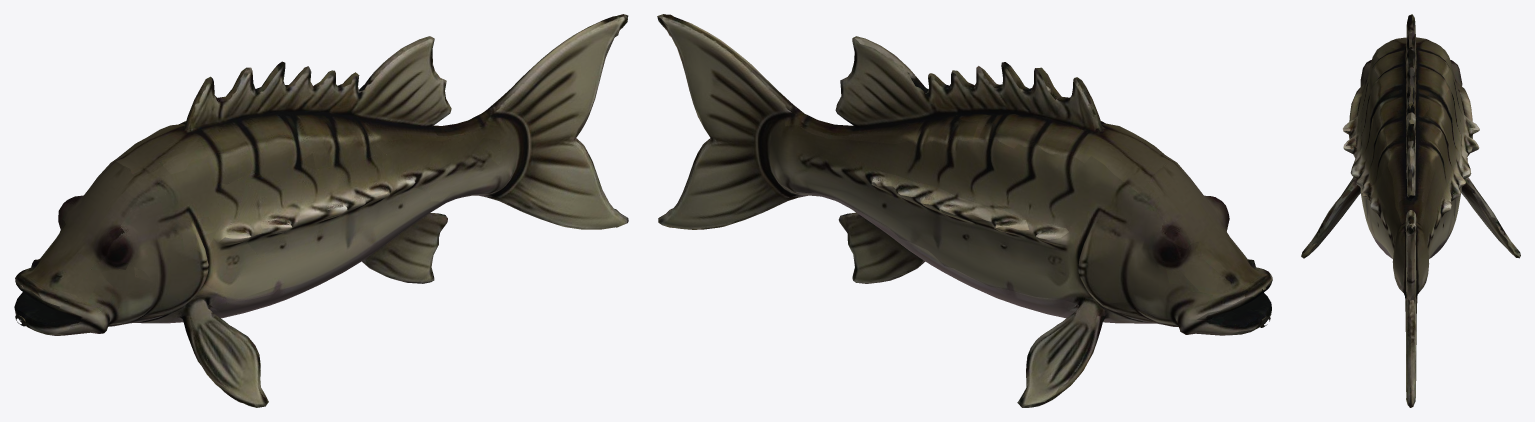
File: fish_cistern_sturgeon.glb
3 views of the same model, side by side, from view 1: azimuth 30°, elevation 25°; view 2: azimuth 150°, elevation 25°; view 3: azimuth 270°, elevation 25° (orthographic). The views are drawn at different scales.
Visible parts, largest first — view 1: fish_cistern_sturgeon; view 2: fish_cistern_sturgeon; view 3: fish_cistern_sturgeon.
Boxes of the visible parts, left/top/right/bottom form: fish_cistern_sturgeon: left=14, top=14, right=628, bottom=407; fish_cistern_sturgeon: left=657, top=14, right=1272, bottom=407; fish_cistern_sturgeon: left=1301, top=14, right=1520, bottom=407.
Bounding box in the file's own units: 1 × 0.4449 × 0.3582.
Materials: 1 (1 with a texture image).
